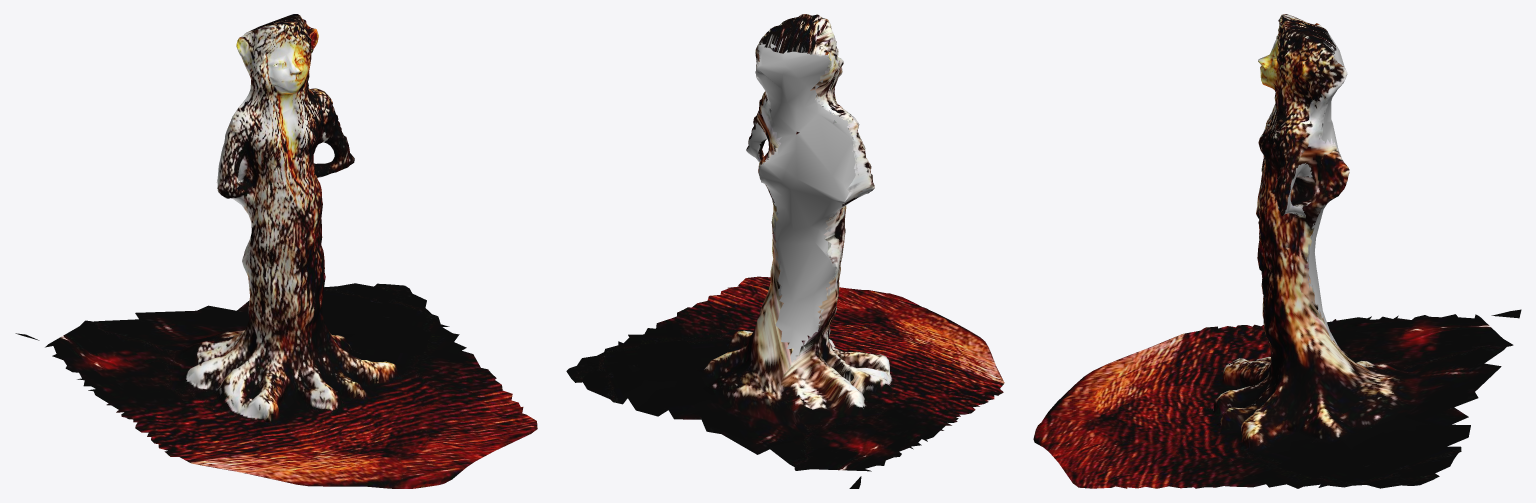
Rendered from boomVrouw.obj.
3 views of the same model, side by side, from view 1: azimuth 30°, elevation 25°; view 2: azimuth 150°, elevation 25°; view 3: azimuth 270°, elevation 25° (orthographic). The views are drawn at different scales.
Bounding box in the file's own units: 19.11 × 20.28 × 22.3.
Materials: 2 (2 with a texture image).
